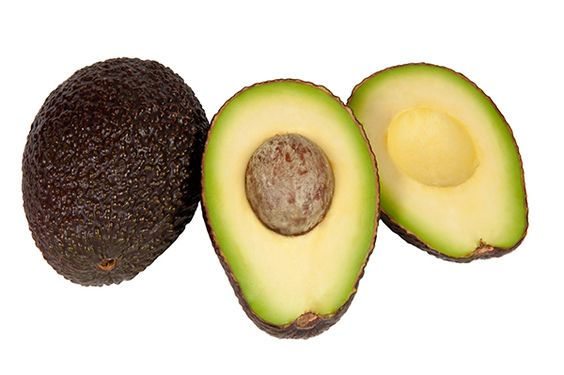fit_avocado: (17, 44, 217, 295)
